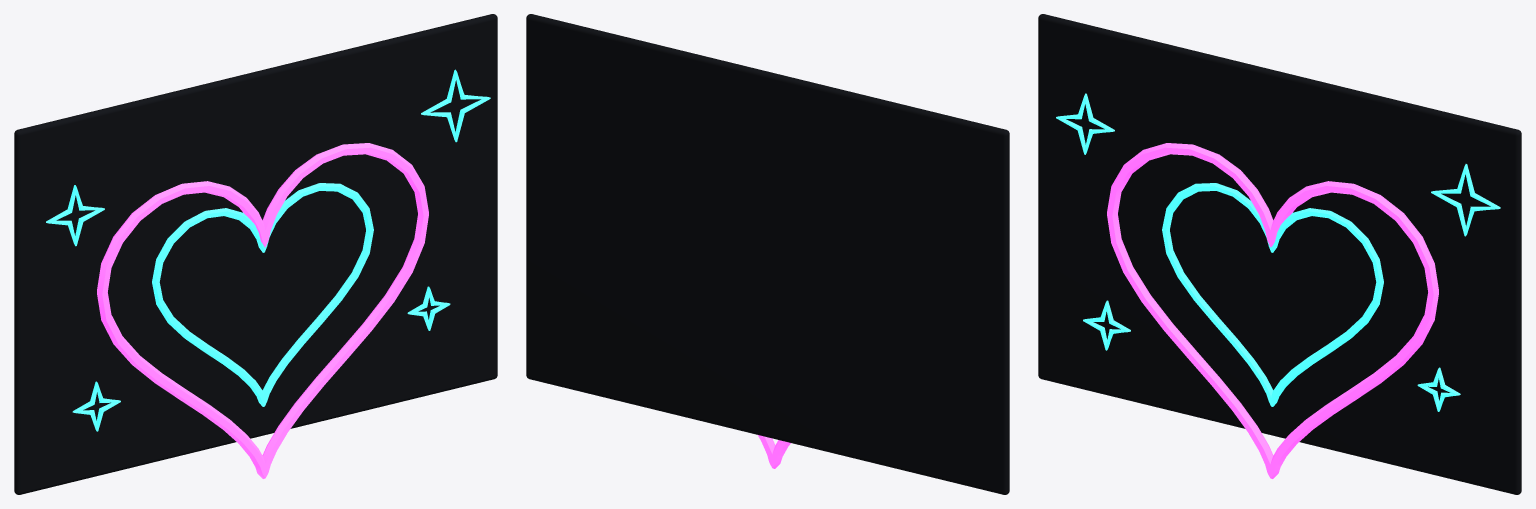
File: sign_neon_heart_big.glb
The picture shows the model from 3 angles, left to right: view 1: azimuth 30°, elevation 25°; view 2: azimuth 150°, elevation 25°; view 3: azimuth 330°, elevation 25°; orthographic projection.
Parts seen in each view (by area): view 1: sign_neon_heart_big; view 2: sign_neon_heart_big; view 3: sign_neon_heart_big.
Part boxes in pixels (bbox=[...]): sign_neon_heart_big: bbox=[14, 14, 497, 494]; sign_neon_heart_big: bbox=[526, 14, 1009, 494]; sign_neon_heart_big: bbox=[1038, 14, 1521, 494].
Bounding box in the file's own units: 1.8 × 1.43 × 0.0773.
